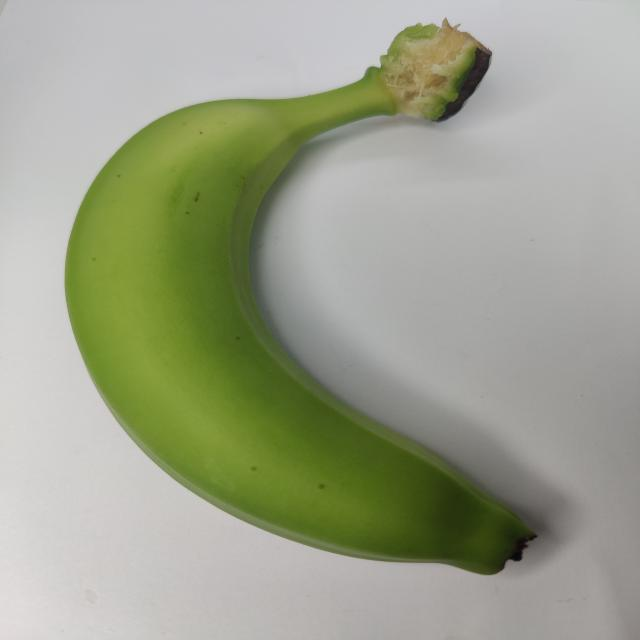raw: (34, 7, 600, 612)
